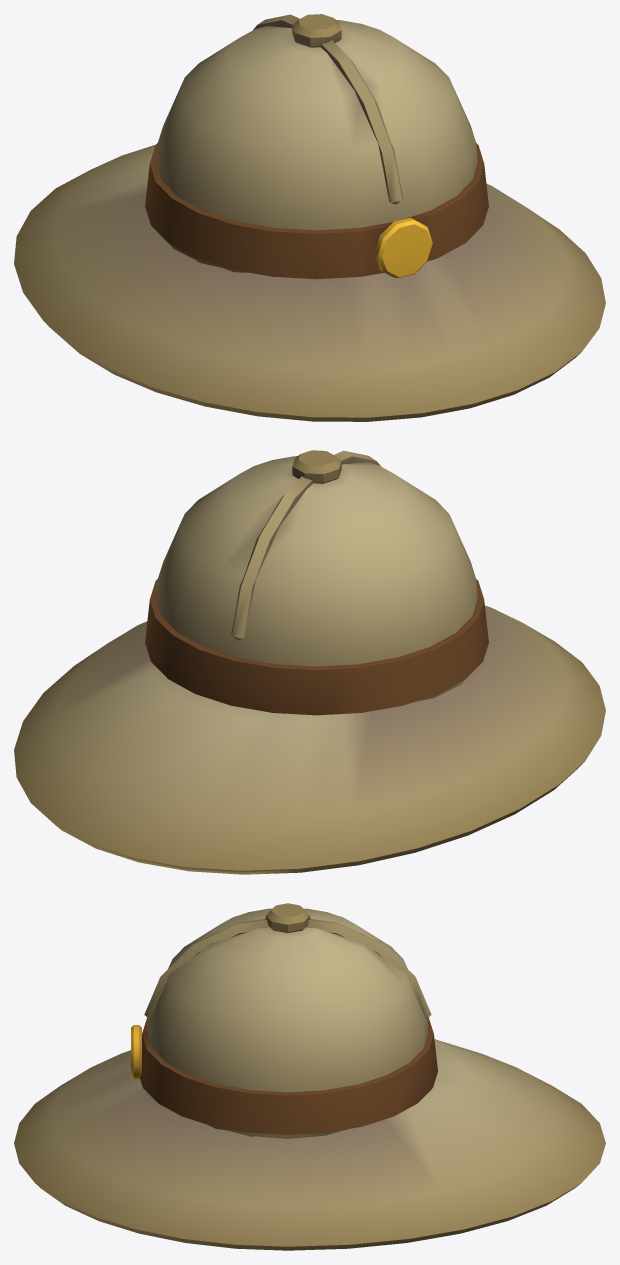
The model's file is pith.glb.
3 views of the same model, one above another, from view 1: azimuth 30°, elevation 25°; view 2: azimuth 150°, elevation 25°; view 3: azimuth 270°, elevation 25° (orthographic). The views are drawn at different scales.
Parts seen in each view (by area): view 1: pith; view 2: pith; view 3: pith.
Part boxes in pixels (x1,y1,x2,y2): pith: (14,14,605,421); pith: (14,450,605,874); pith: (14,903,605,1250).
Size of the model in its own units: 0.352 by 0.19 by 0.4259.
